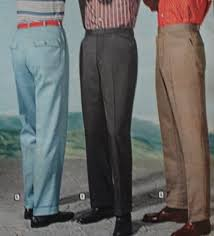F_belt: (153, 17, 209, 38), (79, 24, 136, 40), (12, 16, 67, 32)
F_dress pants: (78, 31, 145, 223)
